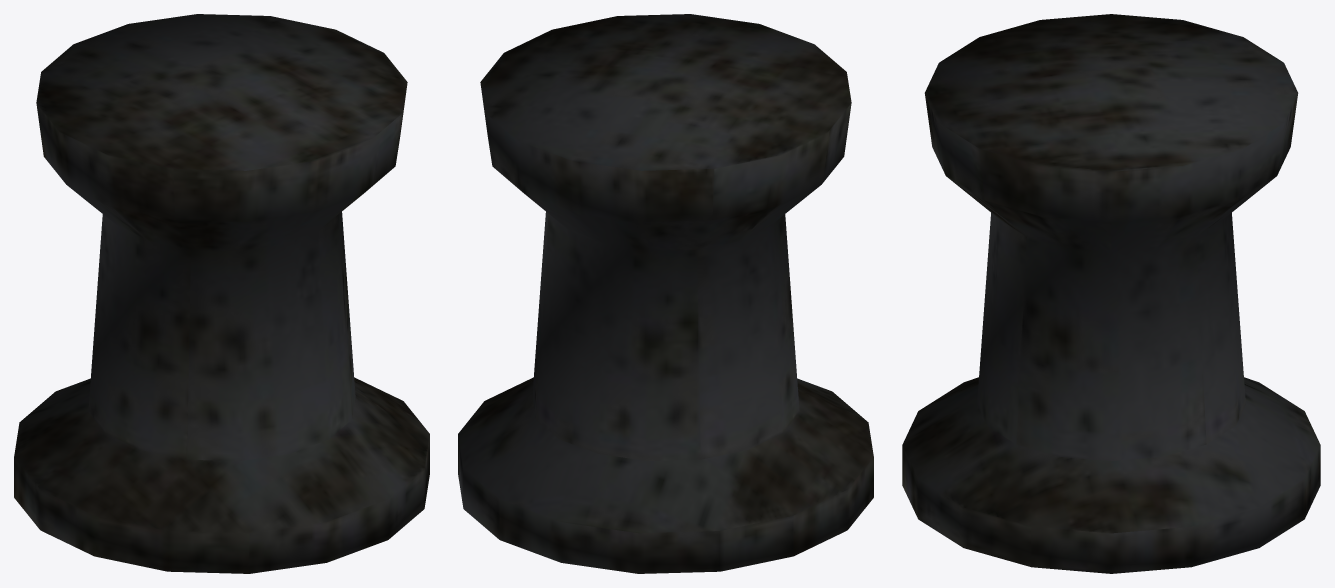
The model's file is bollard.glb.
3 views of the same model, side by side, from view 1: azimuth 30°, elevation 25°; view 2: azimuth 150°, elevation 25°; view 3: azimuth 270°, elevation 25° (orthographic).
Parts seen in each view (by area): view 1: bollard; view 2: bollard; view 3: bollard.
Part boxes in pixels (x1=…): bollard: x1=14, y1=14, x2=429, y2=573; bollard: x1=458, y1=14, x2=873, y2=573; bollard: x1=902, y1=14, x2=1320, y2=573.
Size of the model in its own units: 0.56 by 0.6 by 0.56.
Materials: 1 (1 with a texture image).
